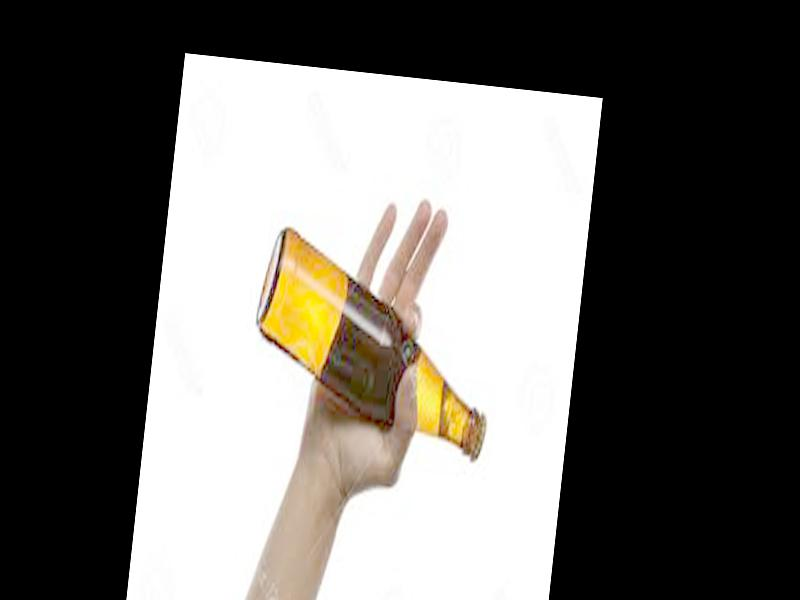Beer: (245, 231, 499, 457)
